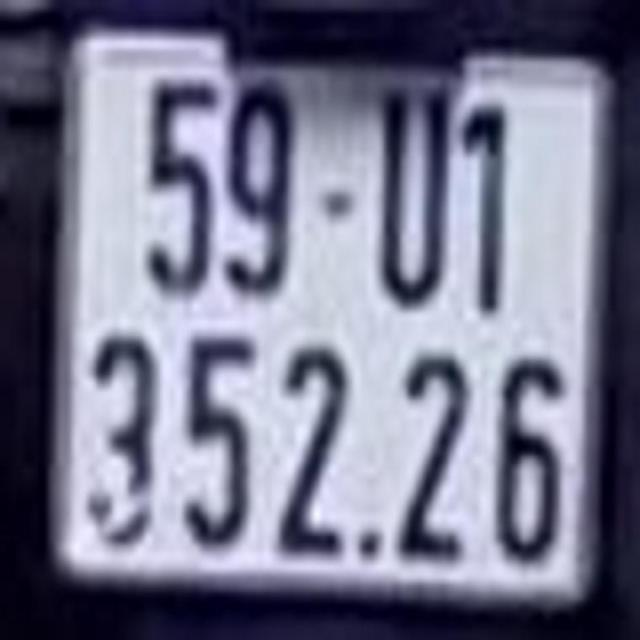1: (459, 101, 509, 306)
2: (277, 342, 344, 564), (398, 359, 468, 554)
3: (90, 335, 148, 554)
5: (181, 334, 246, 542), (153, 83, 210, 295)
6: (494, 358, 574, 566)
9: (227, 85, 298, 308)
U: (378, 88, 452, 306)
